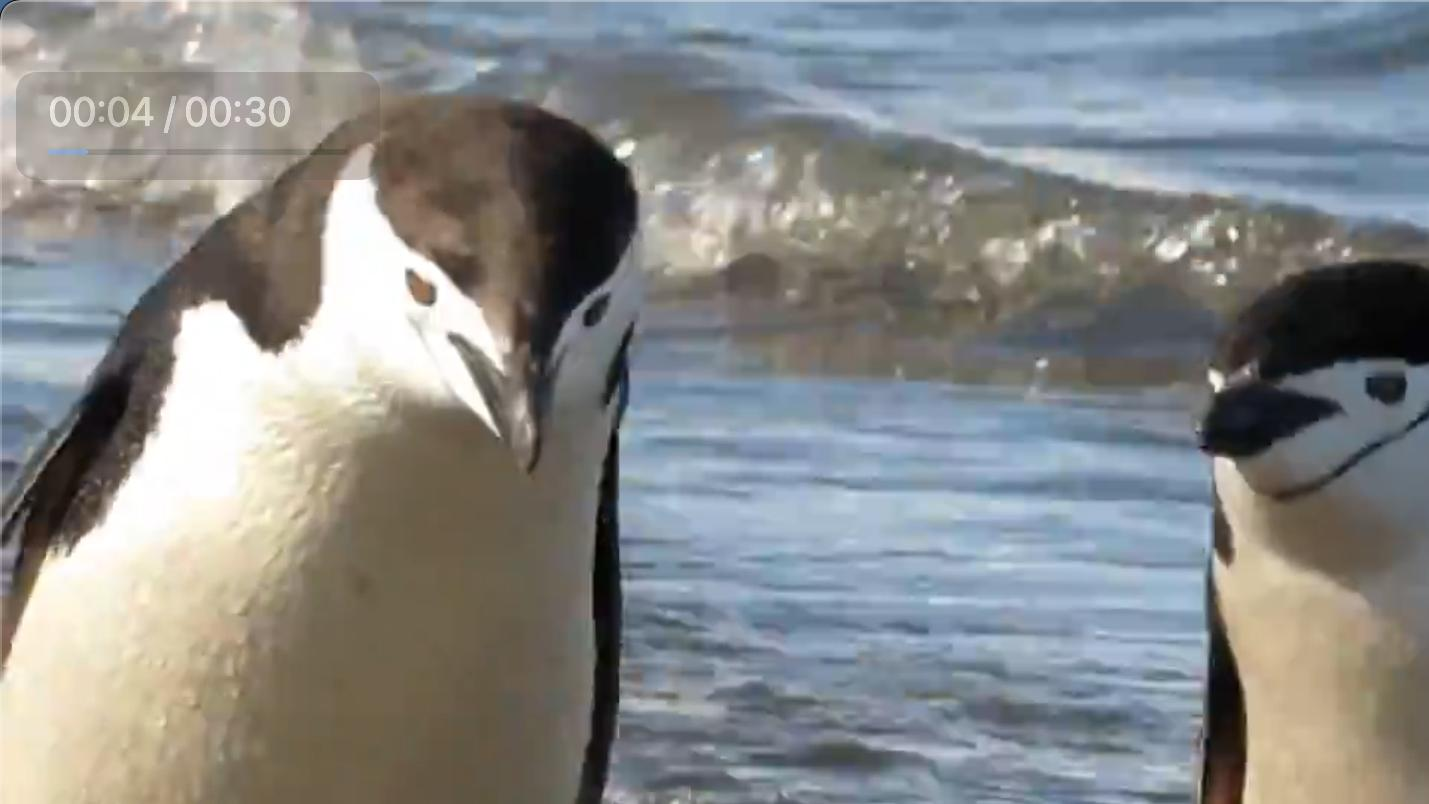Chinstrap Penguin: (0, 60, 776, 804), (1101, 215, 1429, 804)
